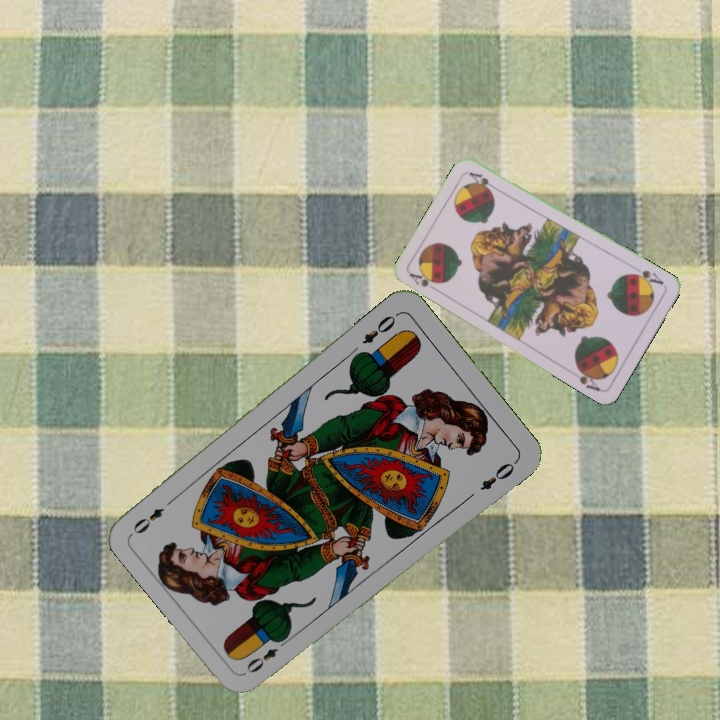EO: (242, 633, 292, 676), (358, 308, 402, 347)
SA: (405, 269, 443, 295), (627, 266, 666, 289)
